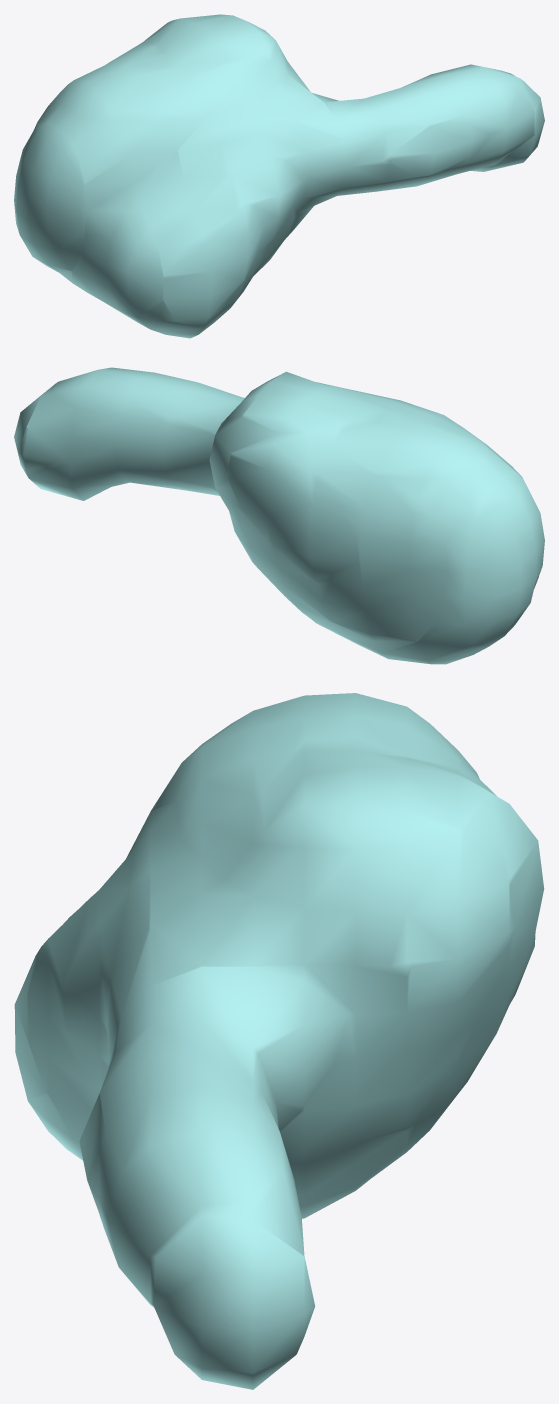
Rendered from Vesicle_199A3monomerAligned.dae.
The picture shows the model from 3 angles, top to bottom: view 1: azimuth 30°, elevation 25°; view 2: azimuth 150°, elevation 25°; view 3: azimuth 270°, elevation 25°; orthographic projection. The views are drawn at different scales.
Parts seen in each view (by area): view 1: vesicle_MeshVes199Mesh; view 2: vesicle_MeshVes199Mesh; view 3: vesicle_MeshVes199Mesh.
Part boxes in pixels (x1,y1,x2,y2): vesicle_MeshVes199Mesh: (14,14,544,338); vesicle_MeshVes199Mesh: (14,367,544,664); vesicle_MeshVes199Mesh: (14,693,544,1389).
Bounding box in the file's own units: 74.41 × 35.13 × 34.55.
